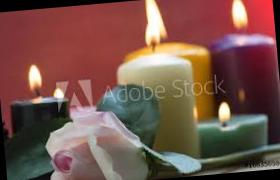Fire: (137, 0, 170, 47), (22, 60, 46, 94), (226, 0, 250, 31), (216, 100, 234, 124)
